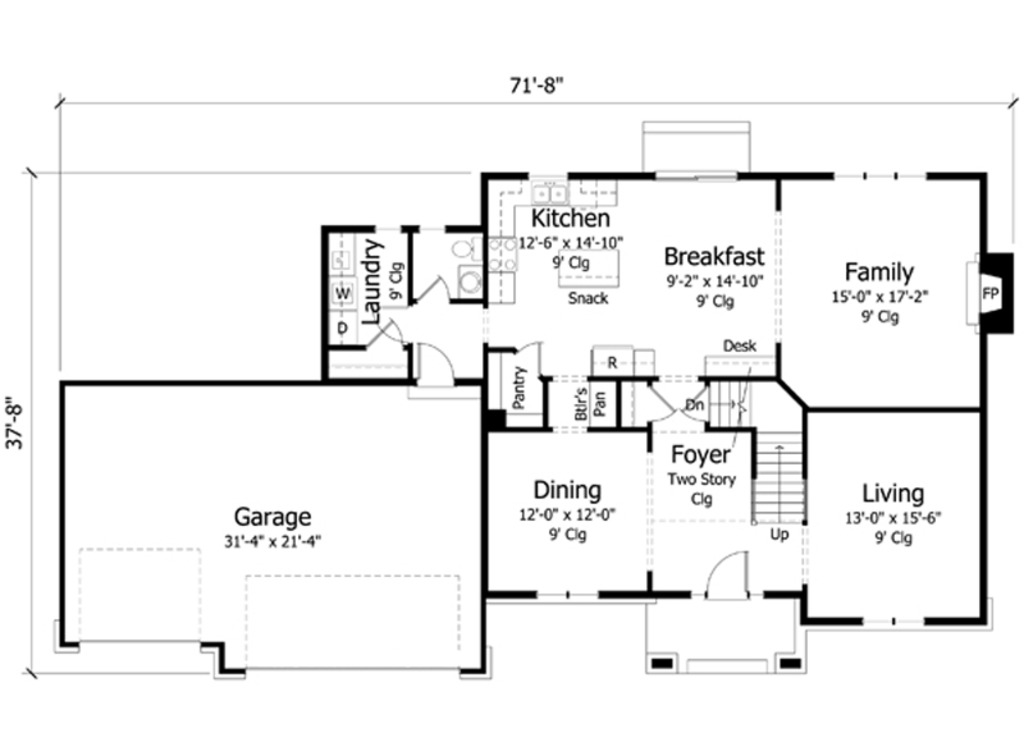door: (704, 549, 750, 599), (415, 340, 454, 392), (368, 299, 415, 342), (365, 316, 410, 352), (679, 379, 712, 424), (410, 268, 448, 302), (511, 339, 546, 374), (642, 379, 669, 420)
large_sink: (450, 230, 482, 263)
small_sink: (457, 266, 488, 301)
stairs: (709, 377, 809, 531)
twin_sink: (519, 165, 576, 210)
window: (829, 162, 931, 185), (646, 165, 742, 185), (852, 610, 922, 629), (535, 588, 594, 602)
